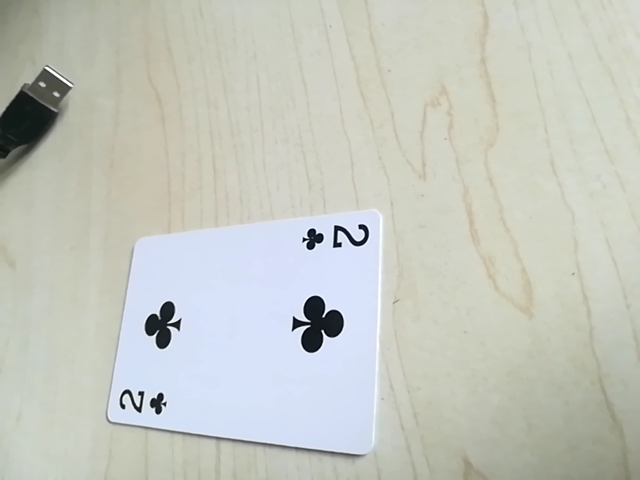mh 2: (298, 216, 373, 260), (110, 382, 174, 423)
